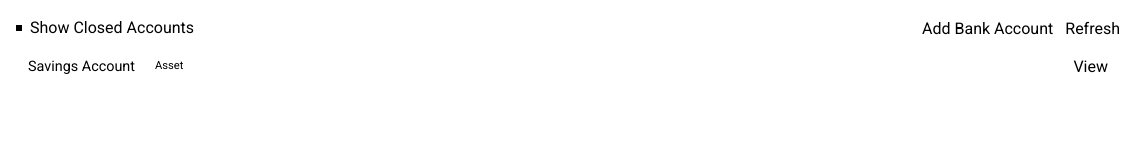
Scenario: BankAccountsPage › account list › shows closed accounts when the toggle is on
Click the switch labelled "Show Closed Accounts". click: (105, 28)
box: [16, 16, 194, 40]
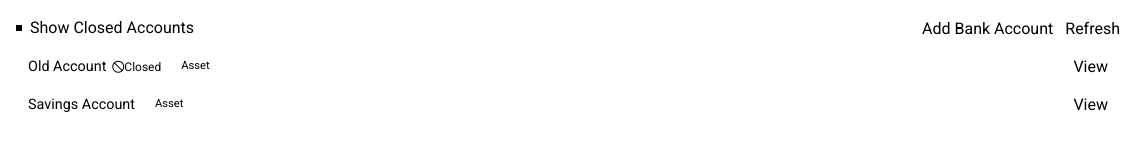
Check: the text "Old Account" is shown, box [28, 56, 106, 78]
